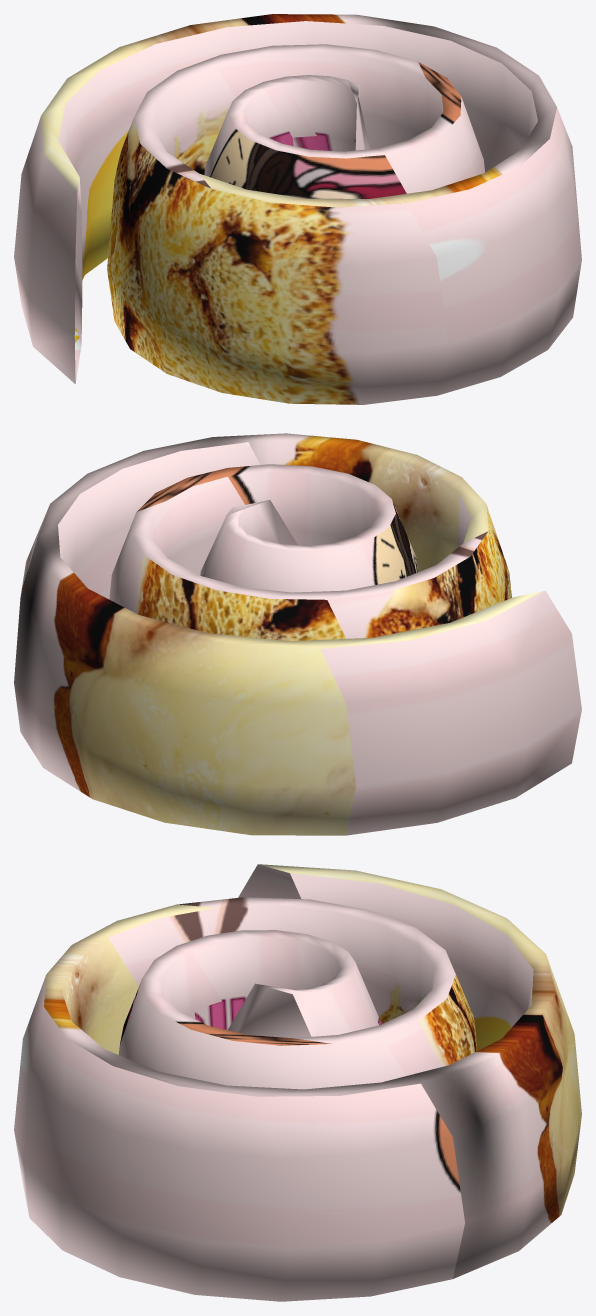
File: prop_cinnamon_roll.glb
3 renders of one model, top to bottom at view 1: azimuth 30°, elevation 25°; view 2: azimuth 150°, elevation 25°; view 3: azimuth 270°, elevation 25°, orthographic. The views are drawn at different scales.
Parts seen in each view (by area): view 1: prop_cinnamon_roll; view 2: prop_cinnamon_roll; view 3: prop_cinnamon_roll.
Part boxes in pixels (left/top/right/bottom): prop_cinnamon_roll: left=14, top=14, right=581, bottom=404; prop_cinnamon_roll: left=14, top=433, right=581, bottom=835; prop_cinnamon_roll: left=14, top=864, right=581, bottom=1301.
Bounding box in the file's own units: 0.0571 × 0.0228 × 0.0527.
1 material, 1 textured.
